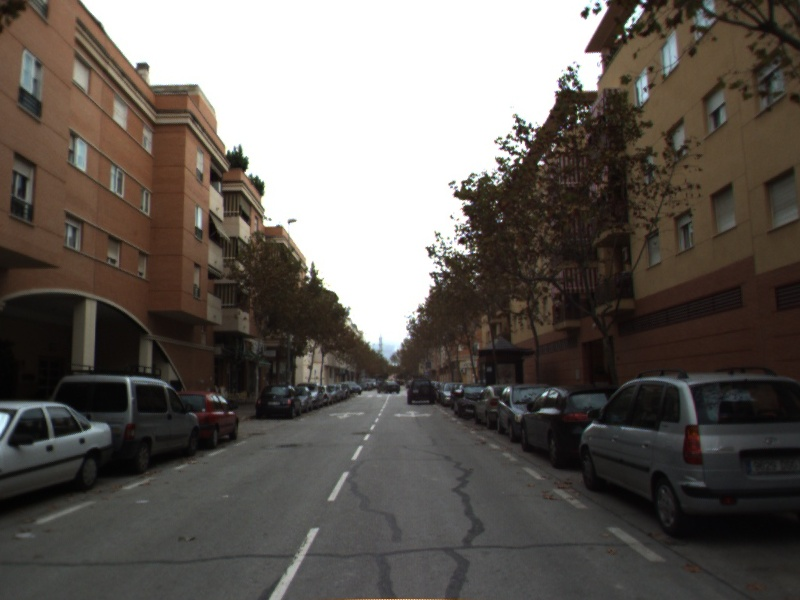STRAIGHT_LEFT_RIGHT: (392, 408, 435, 420)
